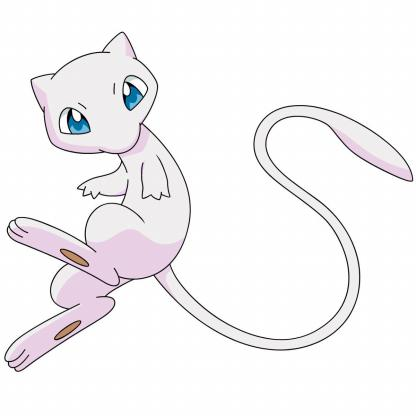Mew: (1, 1, 407, 416)
